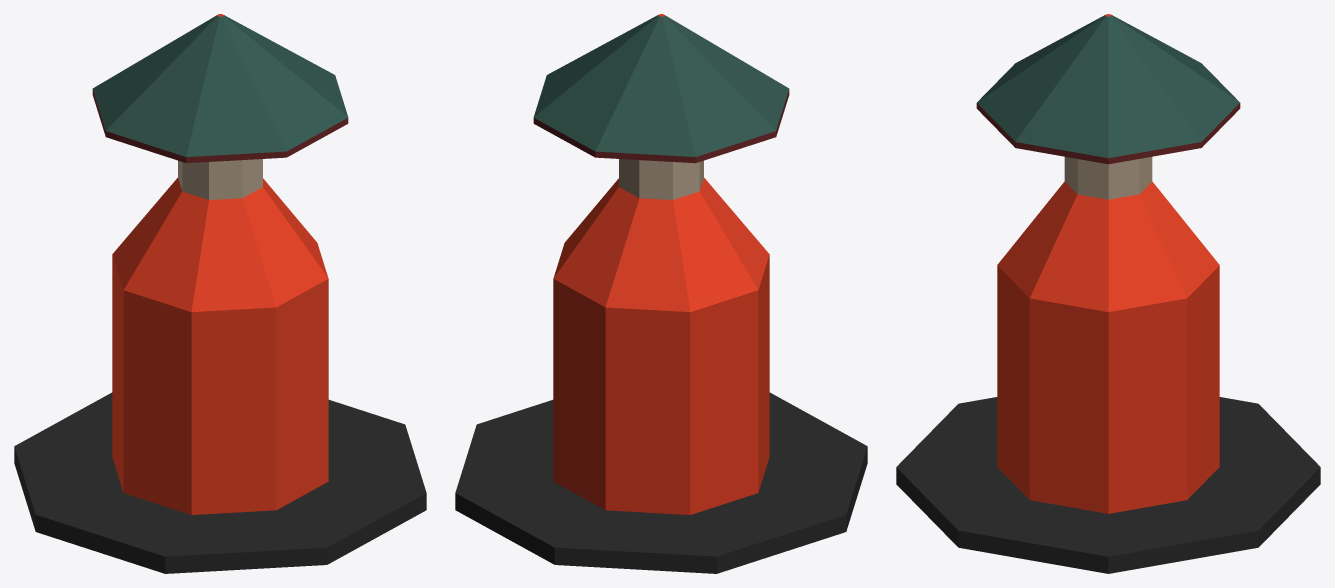
The model's file is Bob.fbx.
3 renders of one model, left to right at view 1: azimuth 30°, elevation 25°; view 2: azimuth 150°, elevation 25°; view 3: azimuth 270°, elevation 25°, orthographic.
Parts seen in each view (by area): view 1: Cylinder; view 2: Cylinder; view 3: Cylinder.
Part boxes in pixels (x1,y1,x2,y2): Cylinder: [14, 14, 426, 573]; Cylinder: [455, 14, 867, 573]; Cylinder: [896, 14, 1320, 573].
Bounding box in the file's own units: 381 × 465 × 381.
